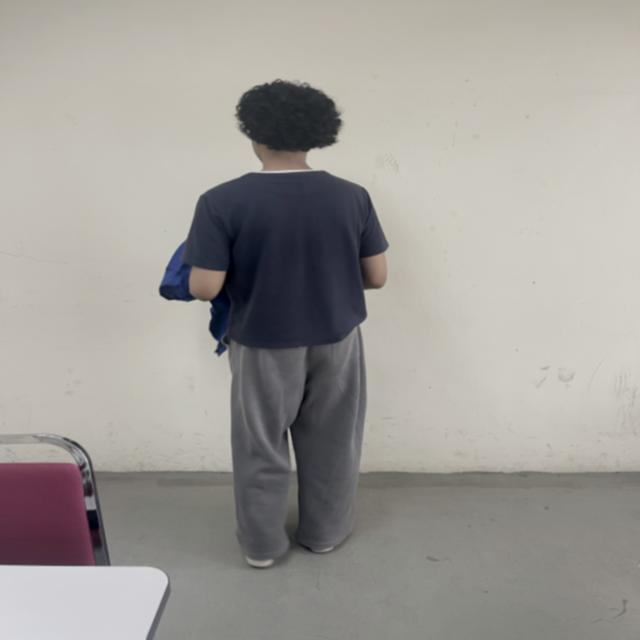person_without_labcoat: (160, 80, 388, 567)
